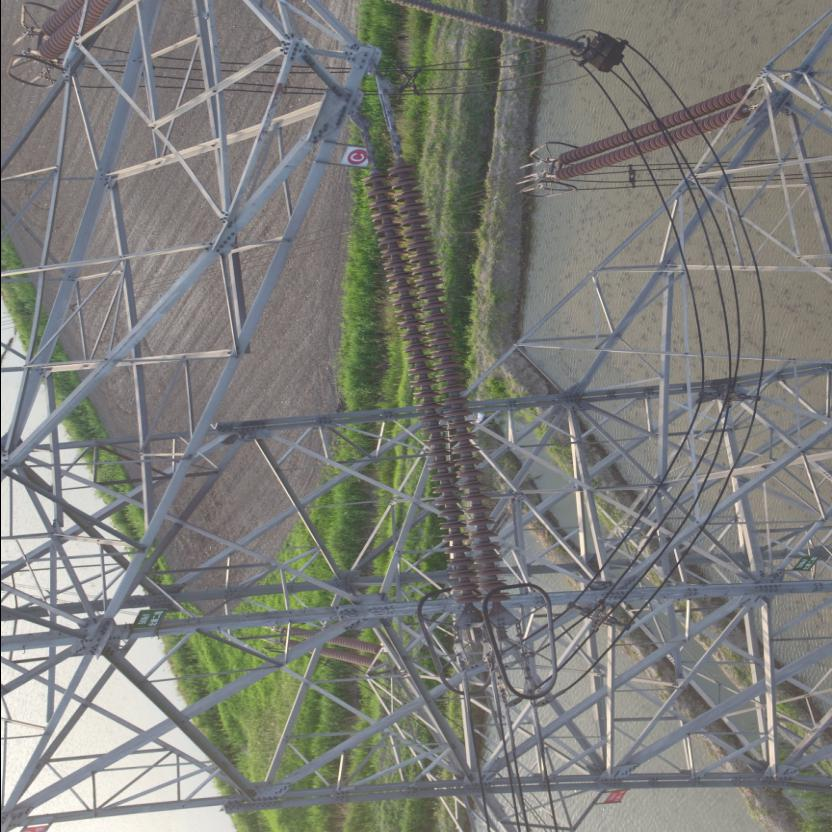insulator: (360, 136, 508, 610), (550, 79, 758, 187)
